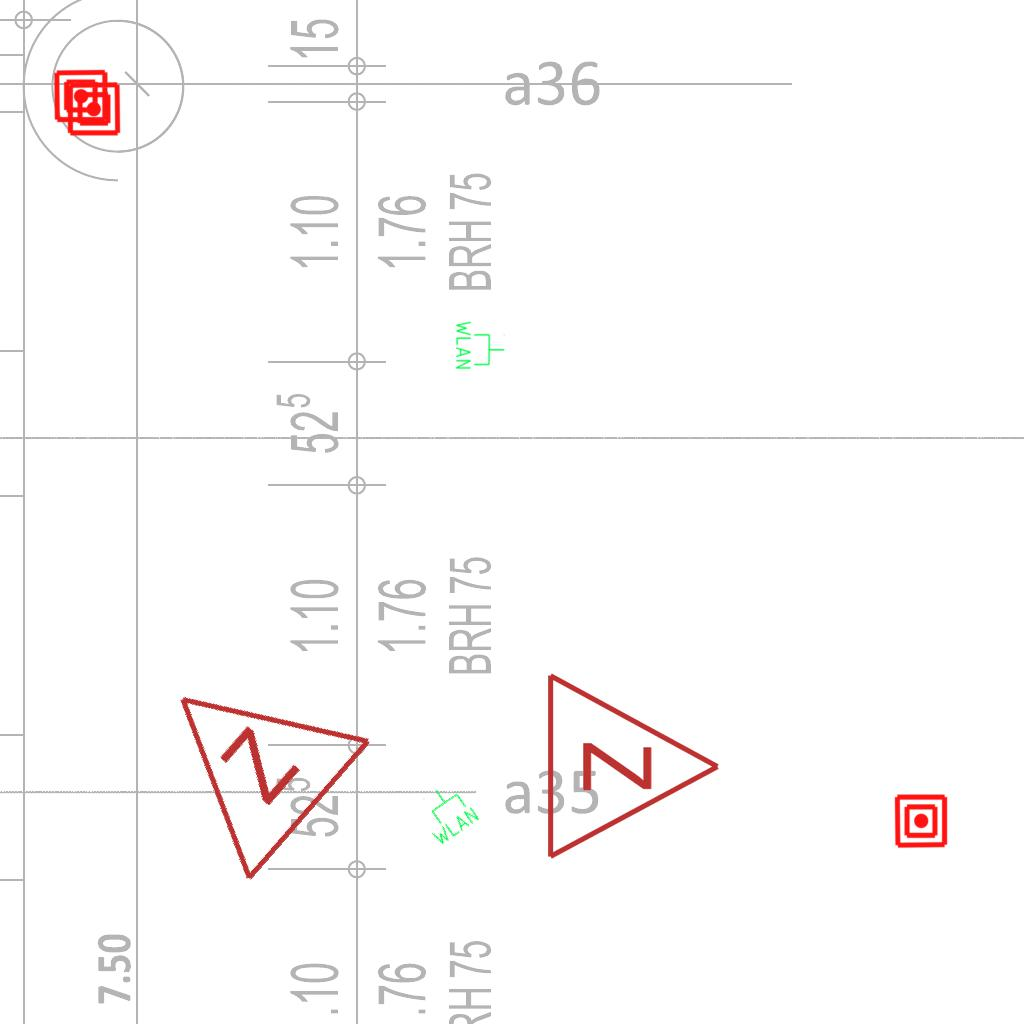NAM-Nichtautomatischer_Melder: (53, 68, 109, 124), (893, 793, 949, 849), (66, 81, 122, 137)
WLAN: (409, 776, 483, 850), (454, 319, 506, 371)
Zimmersignalleuchte: (105, 617, 385, 897), (533, 666, 733, 862)
